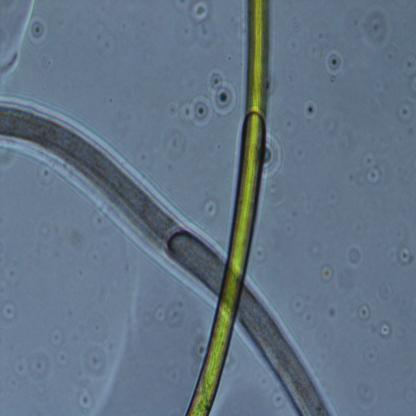Air bubble: (0, 0, 37, 79)
Background material: (178, 69, 237, 126), (173, 0, 217, 44), (380, 218, 414, 267), (362, 8, 393, 47), (82, 19, 114, 56), (10, 350, 48, 381), (48, 322, 70, 371), (83, 310, 111, 344), (323, 41, 346, 78), (82, 344, 107, 378), (155, 301, 187, 325), (164, 126, 186, 160), (354, 379, 376, 407), (286, 21, 302, 56), (89, 205, 108, 233), (65, 226, 87, 250), (279, 109, 299, 135), (84, 247, 107, 269), (191, 333, 209, 361), (346, 11, 365, 37), (344, 245, 364, 269), (383, 42, 400, 70), (362, 343, 380, 369), (202, 194, 220, 220), (396, 100, 414, 124), (0, 299, 17, 324), (399, 54, 416, 78), (300, 98, 318, 120), (29, 22, 49, 41), (318, 262, 335, 284), (310, 25, 327, 46), (78, 388, 94, 408), (271, 388, 286, 408), (4, 262, 16, 286), (283, 220, 298, 238), (306, 42, 321, 60), (164, 101, 179, 119), (362, 150, 376, 169), (301, 312, 317, 328), (380, 277, 392, 298), (379, 320, 392, 339), (367, 168, 382, 184), (404, 123, 416, 143), (254, 244, 267, 262), (326, 188, 338, 207), (358, 304, 372, 320), (310, 243, 323, 260), (293, 296, 305, 314), (403, 386, 415, 402), (409, 74, 416, 94), (356, 174, 366, 186), (346, 171, 354, 185), (329, 308, 336, 318), (286, 74, 294, 82), (226, 54, 233, 62), (331, 74, 335, 82)
Microfibre: (0, 98, 332, 415), (184, 0, 271, 416)
